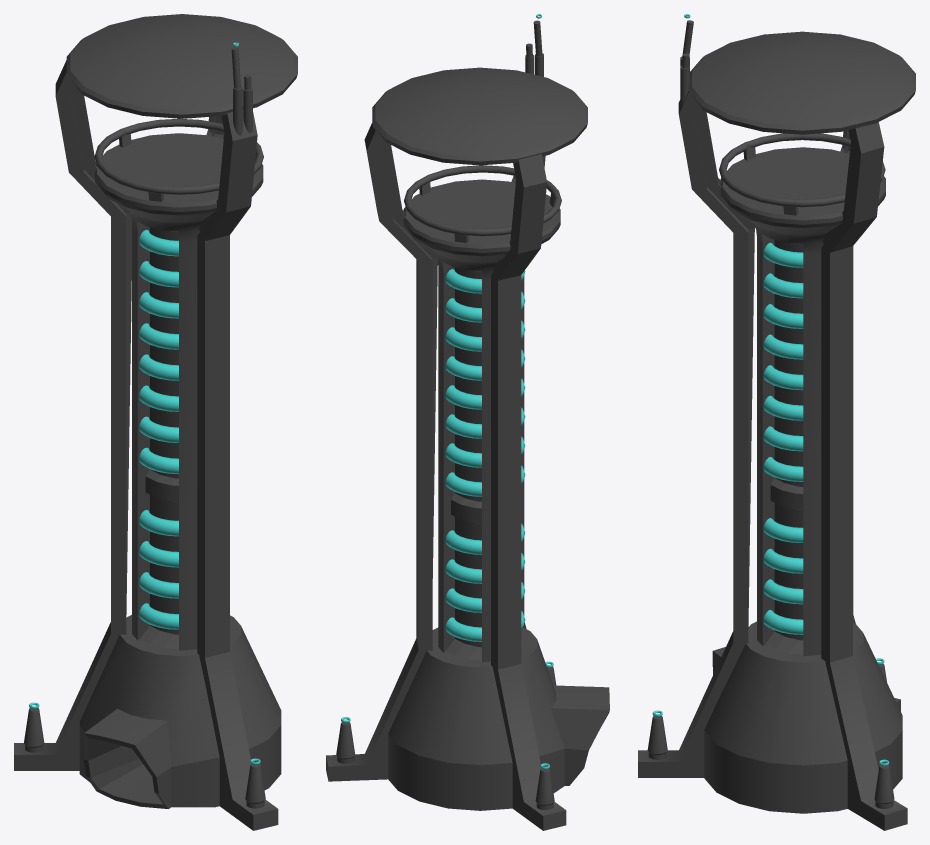
The model's file is Tower.FBX.
The picture shows the model from 3 angles, left to right: view 1: azimuth 30°, elevation 25°; view 2: azimuth 150°, elevation 25°; view 3: azimuth 270°, elevation 25°; orthographic projection. The views are drawn at different scales.
Parts seen in each view (by area): view 1: Cylinder002, Cylinder001, Box001, Cylinder003, Box002, Torus001, Torus012, Torus003, Torus004, Torus011, Torus013, Torus014 (+6 smaller); view 2: Cylinder001, Cylinder002, Box002, Cylinder003, Box003, Torus001, Box001, Torus003, Torus004, Torus006, Torus014, Torus005 (+7 smaller); view 3: Cylinder002, Cylinder001, Box003, Cylinder003, Box001, Torus001, Torus003, Torus014, Torus004, Torus005, Torus008, Torus012 (+7 smaller).
Boxes of the visible parts, x1,y1,x2,y2 form: Cylinder002: (95, 133, 263, 650); Cylinder001: (79, 615, 281, 808); Box001: (197, 109, 278, 830); Cylinder003: (66, 14, 297, 118); Box002: (14, 60, 131, 770); Torus001: (94, 118, 263, 194); Torus012: (139, 541, 178, 567); Torus003: (139, 261, 178, 287); Torus004: (139, 292, 178, 318); Torus011: (139, 510, 178, 536); Torus013: (139, 572, 178, 598); Torus014: (139, 603, 178, 629); Cylinder001: (388, 627, 609, 810); Cylinder002: (403, 179, 560, 662); Box002: (491, 154, 566, 830); Cylinder003: (372, 67, 587, 165); Box003: (326, 123, 437, 781); Torus001: (404, 165, 561, 236); Box001: (511, 155, 556, 685); Torus003: (445, 291, 525, 322); Torus004: (445, 320, 525, 351); Torus006: (445, 378, 525, 409); Torus014: (445, 611, 525, 641); Torus005: (445, 349, 525, 380); Cylinder002: (720, 147, 885, 656); Cylinder001: (704, 621, 902, 813); Box003: (821, 122, 907, 830); Cylinder003: (688, 31, 915, 134); Box001: (638, 91, 756, 777); Torus001: (719, 133, 885, 207); Torus003: (763, 273, 803, 298); Torus014: (763, 609, 803, 634); Torus004: (763, 304, 803, 328); Torus005: (763, 334, 803, 359); Torus008: (763, 426, 803, 451); Torus012: (763, 548, 803, 573).
Size of the model in its own units: 85.31 by 247 by 82.3.
